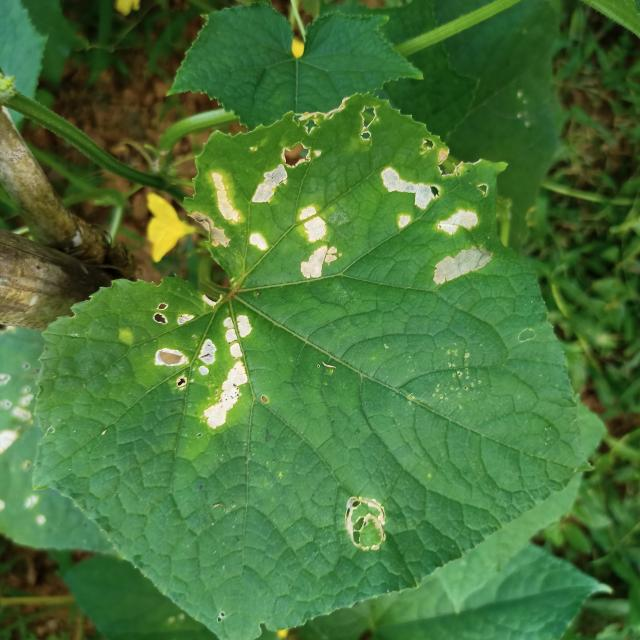disease_cucumber: (144, 295, 262, 434), (194, 162, 287, 260), (428, 203, 496, 287), (290, 201, 344, 285), (374, 163, 433, 230)
